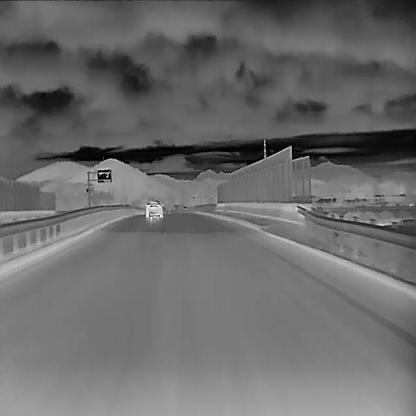car: (144, 197, 163, 217)
